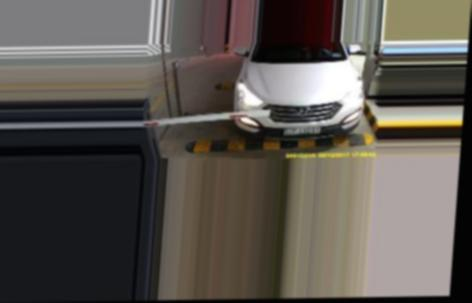License_Plate: (284, 125, 322, 137)
